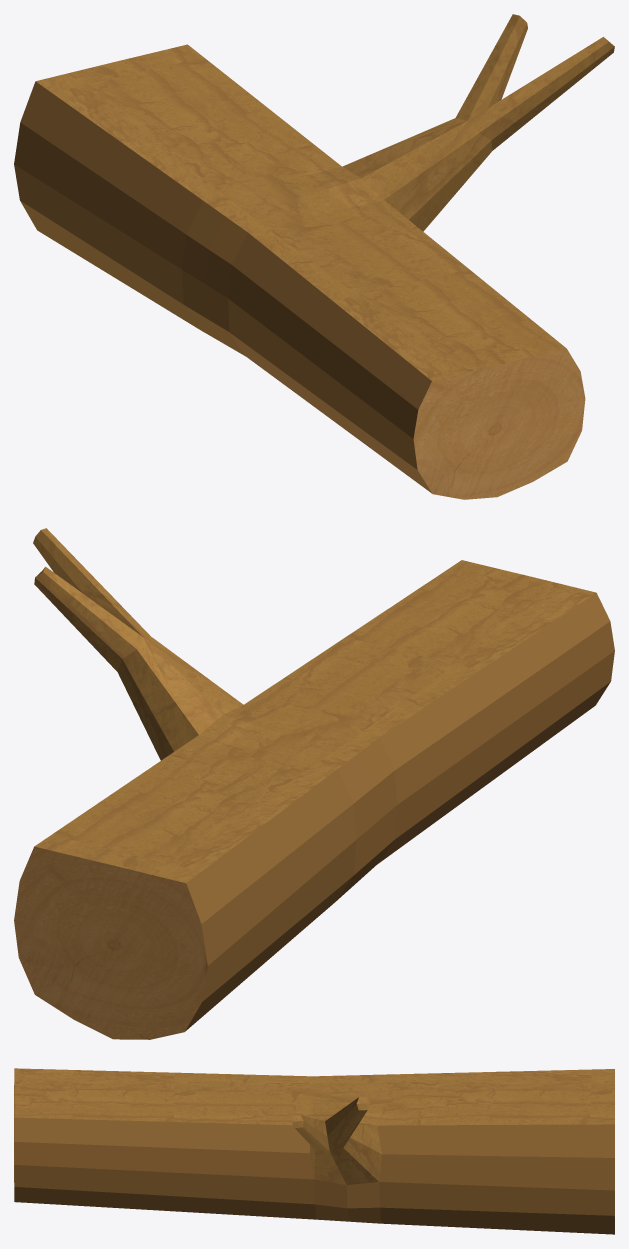
File: Log.fbx
The picture shows the model from 3 angles, top to bottom: view 1: azimuth 30°, elevation 25°; view 2: azimuth 150°, elevation 25°; view 3: azimuth 270°, elevation 25°; orthographic projection. The views are drawn at different scales.
Visible parts, largest first — view 1: Cube; view 2: Cube; view 3: Cube.
Part boxes in pixels (<box>): Cube: <box>14,14,614,499</box>; Cube: <box>14,528,614,1039</box>; Cube: <box>14,1068,614,1234</box>.
Bounding box in the file's own units: 600 × 426 × 1080.
